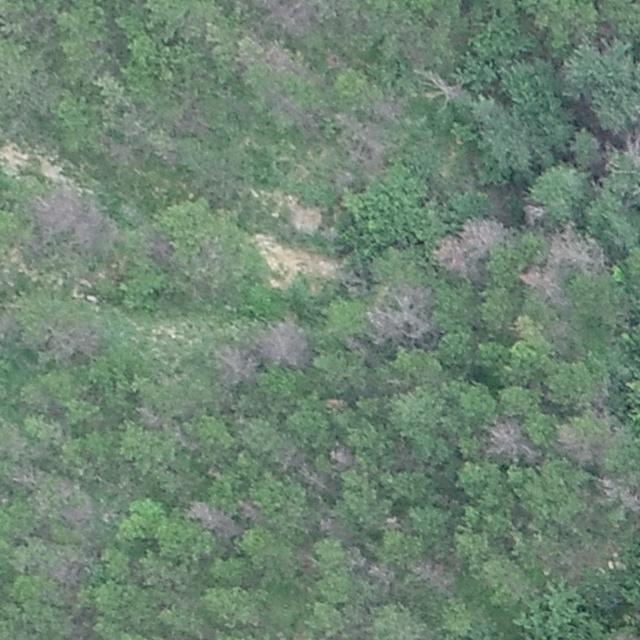unhealthy: (365, 284, 435, 347), (334, 116, 386, 179), (548, 219, 608, 270), (256, 315, 312, 369), (133, 398, 192, 448), (548, 539, 616, 580), (276, 443, 328, 496), (43, 317, 104, 362), (265, 89, 317, 137), (483, 418, 536, 465), (26, 186, 78, 232), (76, 199, 120, 252), (518, 264, 569, 307), (408, 66, 460, 107), (186, 499, 238, 539), (592, 473, 640, 515), (211, 345, 256, 389), (553, 424, 599, 467), (264, 0, 315, 36), (427, 231, 468, 274), (468, 206, 516, 242), (57, 493, 95, 534), (172, 97, 210, 138), (408, 557, 452, 590), (258, 39, 294, 75), (48, 556, 87, 588), (366, 92, 406, 123), (359, 557, 396, 587), (316, 513, 351, 538), (624, 121, 640, 174), (240, 496, 267, 523), (0, 307, 18, 344), (519, 201, 545, 226), (326, 444, 353, 468), (603, 628, 640, 640)
